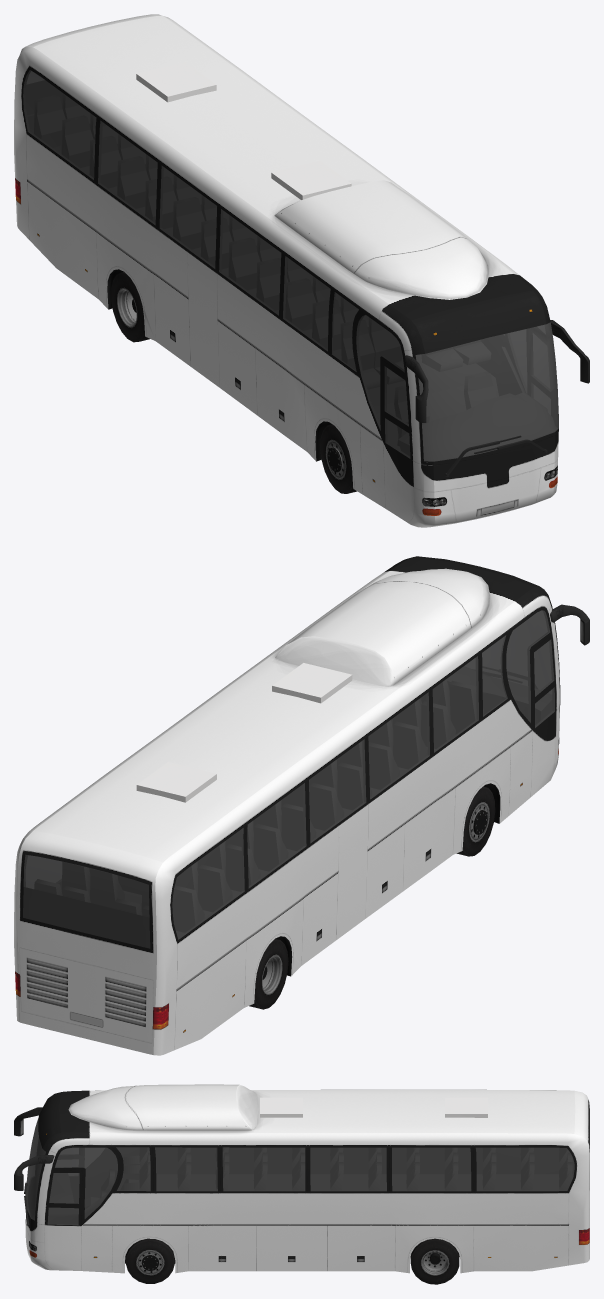
The model's file is 03_Bus_Low.glb.
3 views of the same model, one above another, from view 1: azimuth 30°, elevation 25°; view 2: azimuth 150°, elevation 25°; view 3: azimuth 270°, elevation 25° (orthographic). The views are drawn at different scales.
Visible parts, largest first — view 1: Big_Bus_LOD0, Wheels_RR_LOD0, Wheels_FR_LOD0; view 2: Big_Bus_LOD0, Wheels_RR_LOD0, Wheels_FR_LOD0; view 3: Big_Bus_LOD0, Wheels_RL_LOD0, Wheels_FL_LOD0.
Boxes of the visible parts, bbox=[...] form: Big_Bus_LOD0: bbox=[14, 14, 589, 527]; Wheels_RR_LOD0: bbox=[111, 272, 149, 342]; Wheels_FR_LOD0: bbox=[320, 424, 356, 493]; Big_Bus_LOD0: bbox=[14, 556, 589, 1055]; Wheels_RR_LOD0: bbox=[249, 939, 288, 1009]; Wheels_FR_LOD0: bbox=[456, 786, 495, 856]; Big_Bus_LOD0: bbox=[14, 1084, 589, 1273]; Wheels_RL_LOD0: bbox=[410, 1238, 459, 1284]; Wheels_FL_LOD0: bbox=[126, 1238, 174, 1283].
Bounding box in the file's own units: 2.97 × 4.02 × 12.68.
6 materials, 4 textured.
